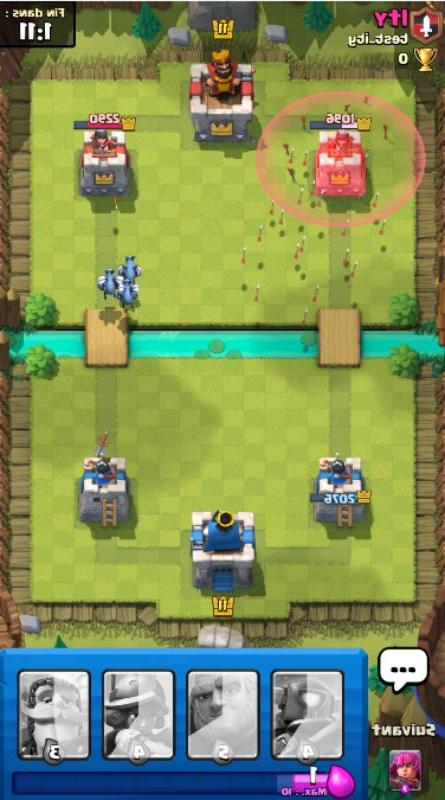gargouille: (95, 267, 124, 301), (117, 255, 142, 287), (115, 280, 139, 310)
